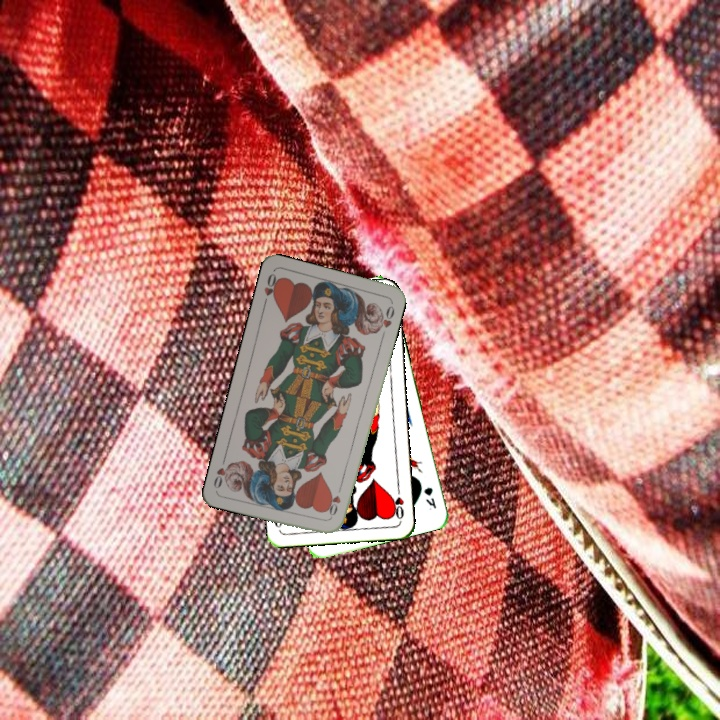GK: (420, 483, 439, 512)
HO: (259, 269, 282, 309), (325, 481, 345, 521), (389, 482, 406, 521)
